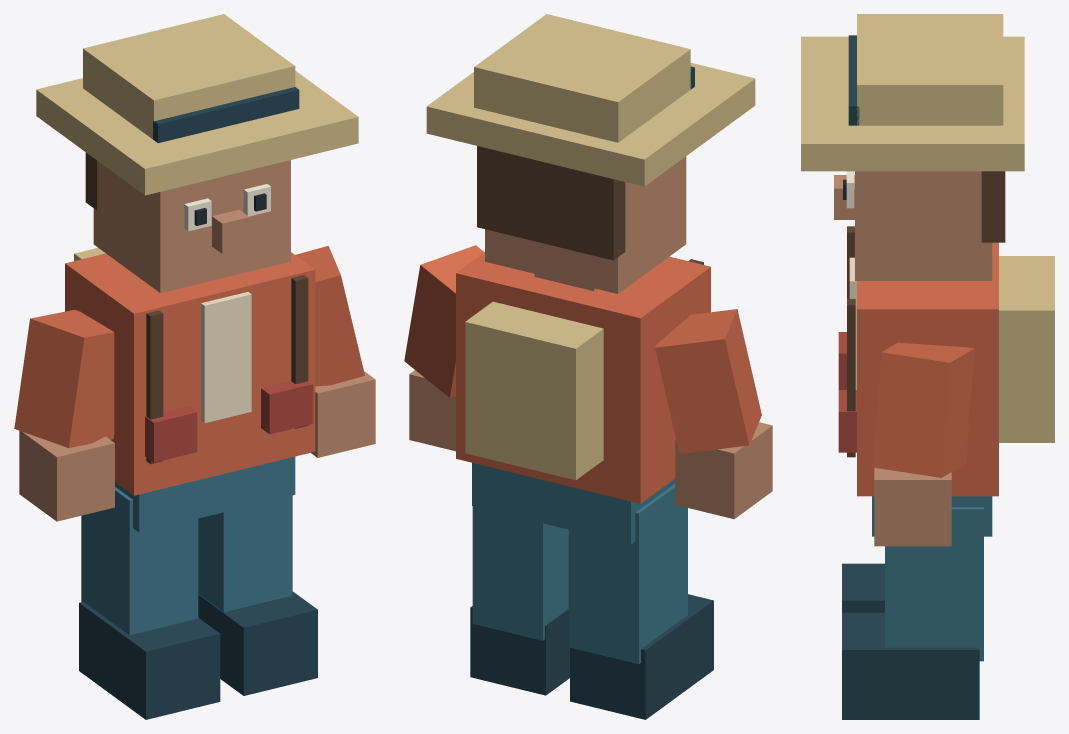
File: fisherman.gltf
3 renders of one model, left to right at view 1: azimuth 30°, elevation 25°; view 2: azimuth 150°, elevation 25°; view 3: azimuth 270°, elevation 25°, orthographic. The views are drawn at different scales.
Parts seen in each view (by area): view 1: fisherman; view 2: fisherman; view 3: fisherman.
Part boxes in pixels (left/top/right/bottom): fisherman: left=14, top=14, right=375, bottom=719; fisherman: left=404, top=14, right=772, bottom=719; fisherman: left=801, top=14, right=1054, bottom=719.
Size of the model in its own units: 0.9342 by 1.61 by 0.59.
